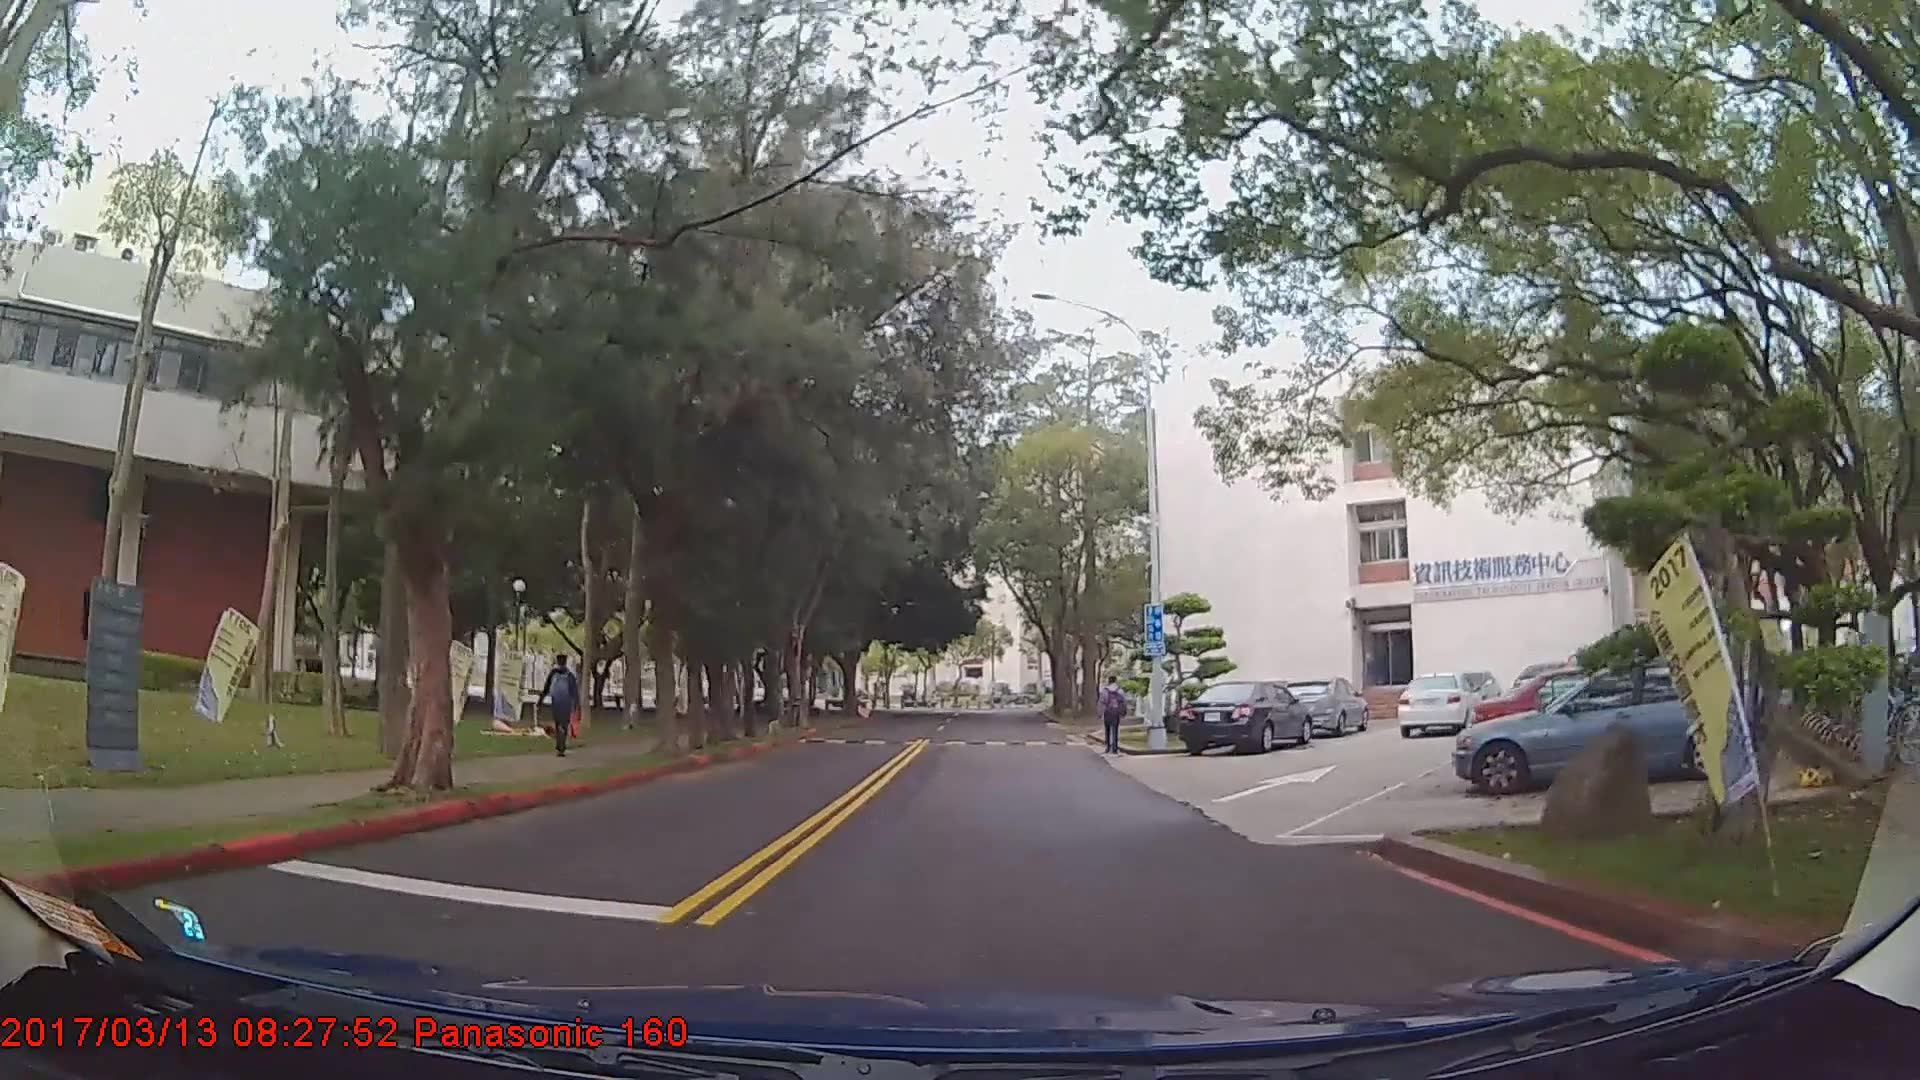pedestrian: (542, 655, 579, 759), (1098, 677, 1127, 756)
vehicle: (1454, 660, 1763, 794), (1178, 679, 1316, 757), (1392, 671, 1477, 738), (1282, 676, 1370, 737)
